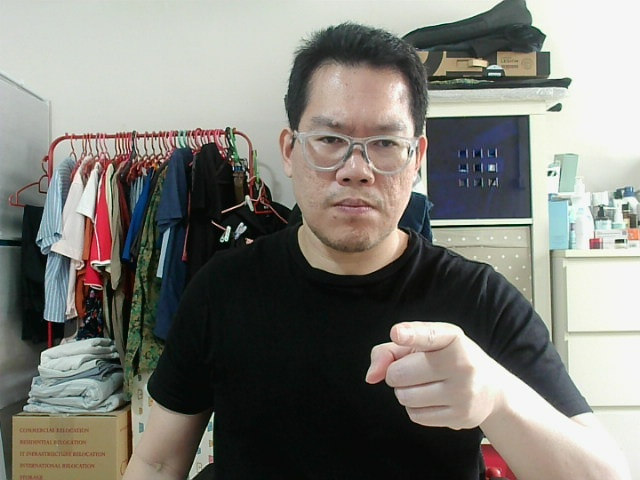you: (372, 330, 497, 416)
